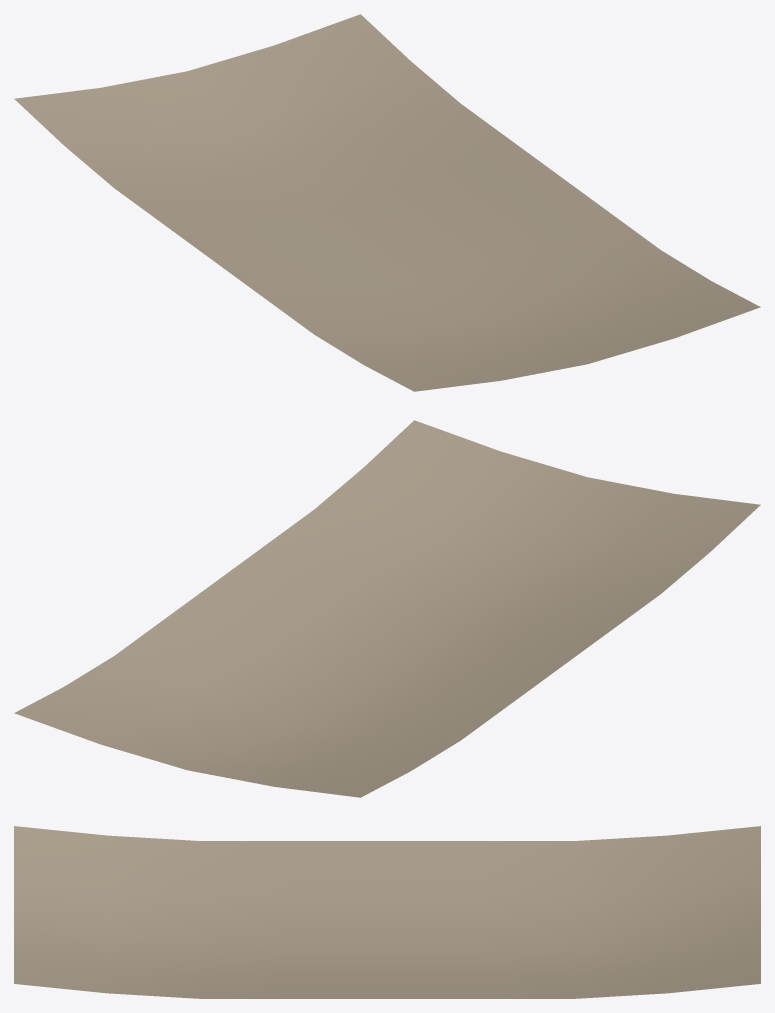
Rendered from SM_Net_Cieling_2x4M.fbx.
3 renders of one model, top to bottom at view 1: azimuth 30°, elevation 25°; view 2: azimuth 150°, elevation 25°; view 3: azimuth 270°, elevation 25°, orthographic. The views are drawn at different scales.
Visible parts, largest first — view 1: Net_Cieling_2x4; view 2: Net_Cieling_2x4; view 3: Net_Cieling_2x4.
Boxes of the visible parts, x1,y1,x2,y2 form: Net_Cieling_2x4: (14,14,760,391); Net_Cieling_2x4: (14,420,760,797); Net_Cieling_2x4: (14,826,760,998).
Size of the model in its own units: 200 by 22.33 by 400.
